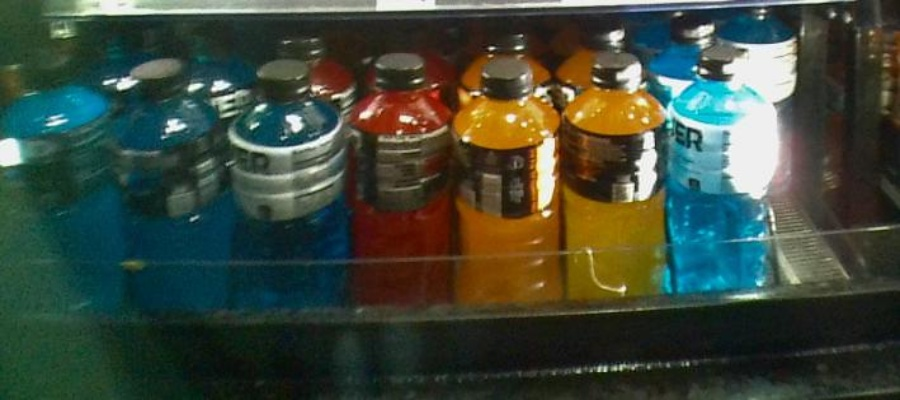bottle: (228, 64, 349, 312), (112, 50, 221, 310), (670, 37, 778, 299), (457, 53, 559, 320), (10, 49, 108, 319), (564, 40, 664, 303), (355, 56, 451, 311)
